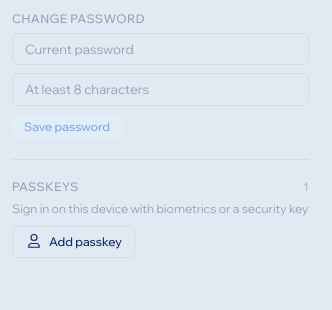
Scenario: SecuritySettings › показывает ошибку неверного текущего пароля
This screenshot has width=332, height=310.
Type "wrong-password" into the password field with placeholder "Current password" at (160, 49), box [12,33,308,66]
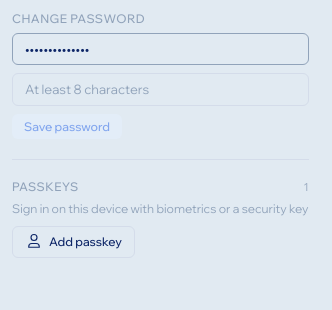
Type "new-password" into the password field with placeholder "At least 8 characters" at (160, 90), box [12,74,308,106]
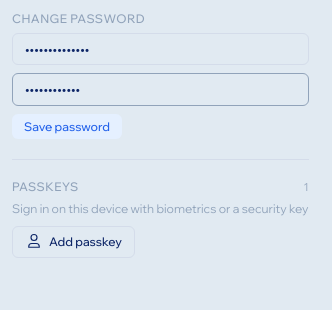
Click the button "Save password" at (67, 126), box [12,114,122,139]
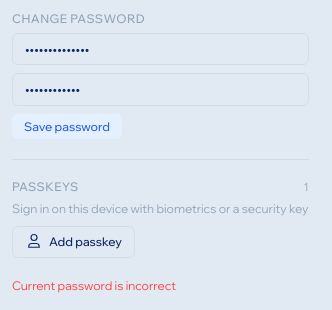
Check: the text "Current password is incorrect" is shown, box [12,278,176,293]
